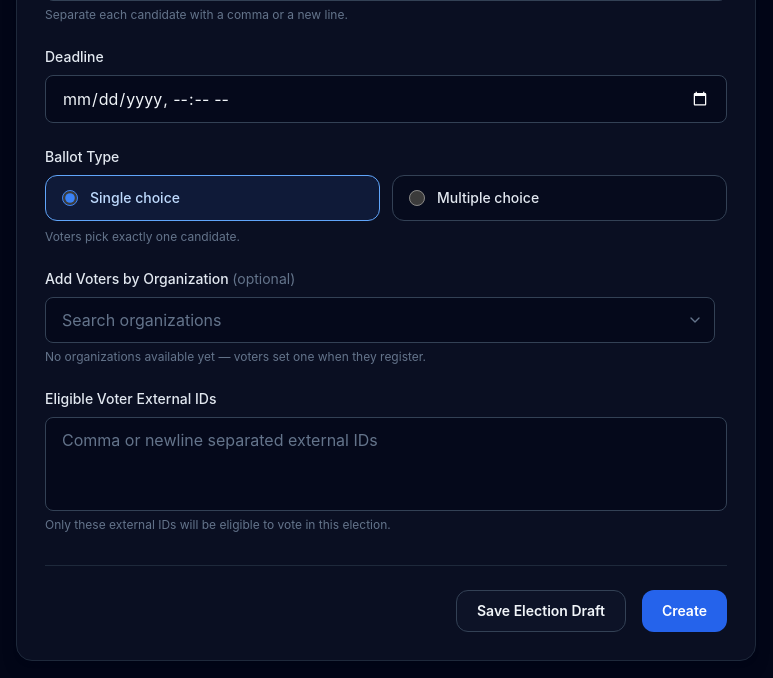
Scenario: CreateElection organization selector › typing filters the organizations by substring, not just by prefix
(page scrolled)
Type "scien" into the dropdown labelled "Add Voters by Organization (optional)" at (380, 320), box [45,297,715,343]
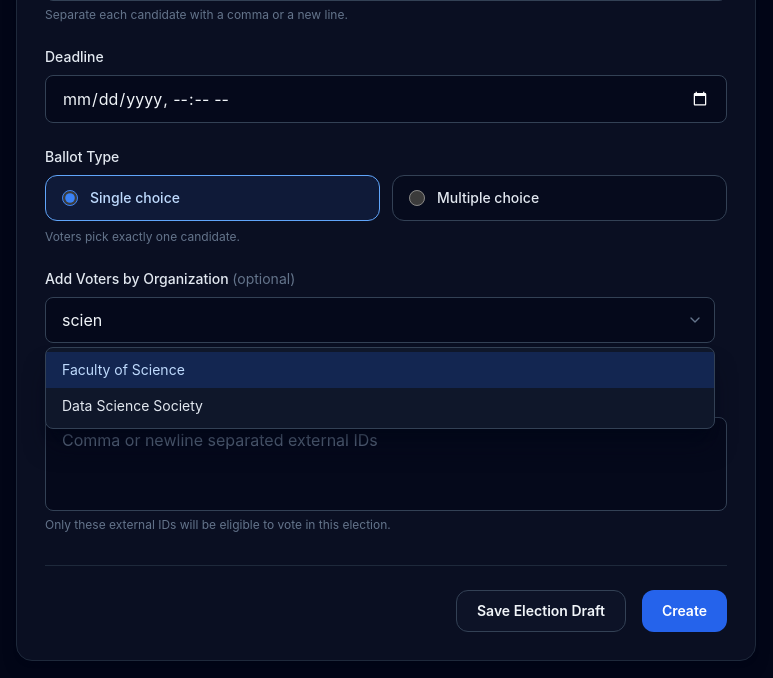
Now the number of options is 2, box [46,352,714,388]; [62,397,203,414]
Now the option "Faculty of Science" is shown, box [46,352,714,388]
Now the option "Data Science Society" is shown, box [62,397,203,414]
